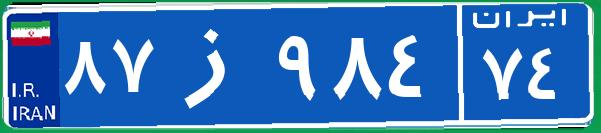4: (385, 28, 445, 110), (525, 38, 570, 115)
7: (475, 38, 525, 113), (110, 28, 158, 105)
8: (330, 28, 385, 110), (57, 26, 110, 107)
9: (273, 28, 330, 110)
ز: (158, 15, 273, 115)
